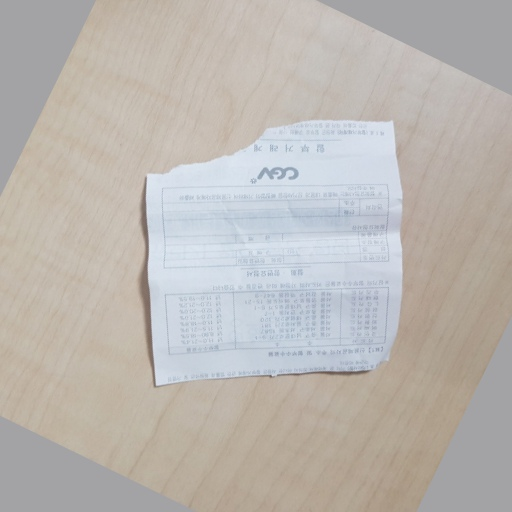Paper_2: (128, 114, 410, 400)
